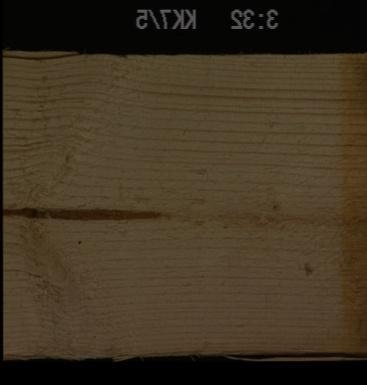small_knot: (69, 231, 88, 250), (266, 197, 278, 212)
split: (2, 51, 81, 61)
